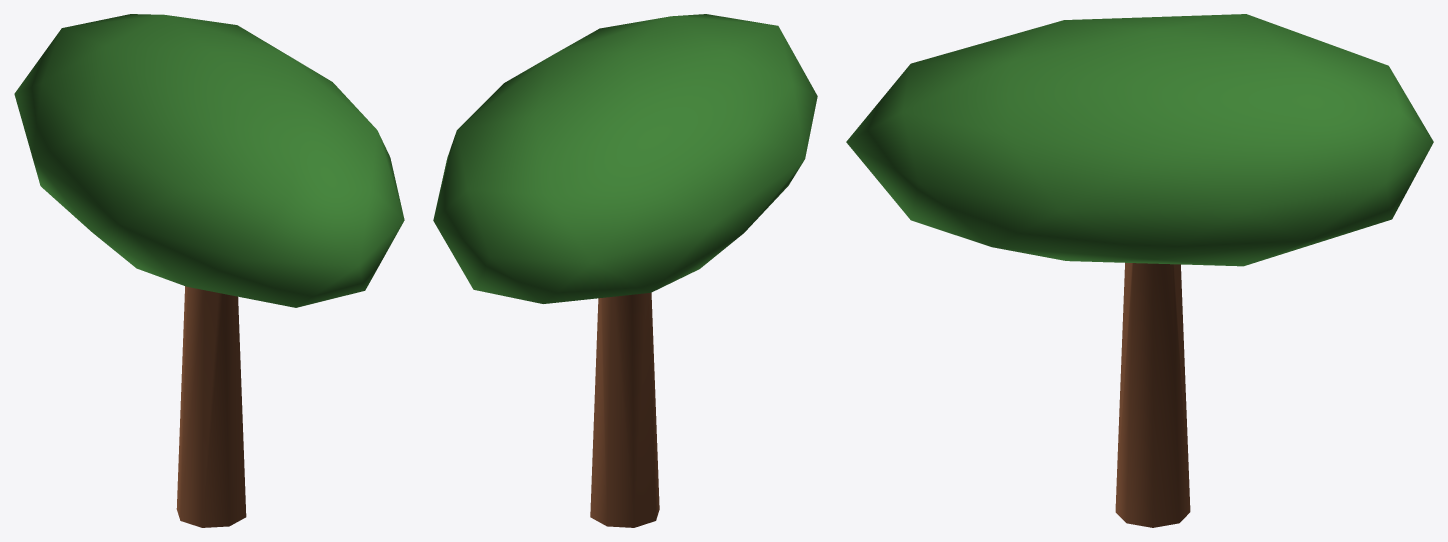
The model's file is nature_leaf_tree.3.glb.
3 views of the same model, side by side, from view 1: azimuth 30°, elevation 25°; view 2: azimuth 150°, elevation 25°; view 3: azimuth 270°, elevation 25° (orthographic). The views are drawn at different scales.
Visible parts, largest first — view 1: nature_leaf_tree.3; view 2: nature_leaf_tree.3; view 3: nature_leaf_tree.3.
Boxes of the visible parts, x1,y1,x2,y2 form: nature_leaf_tree.3: (14,14,404,527); nature_leaf_tree.3: (433,14,817,527); nature_leaf_tree.3: (846,14,1433,527).
Size of the model in its own units: 0.5534 by 0.9016 by 1.
